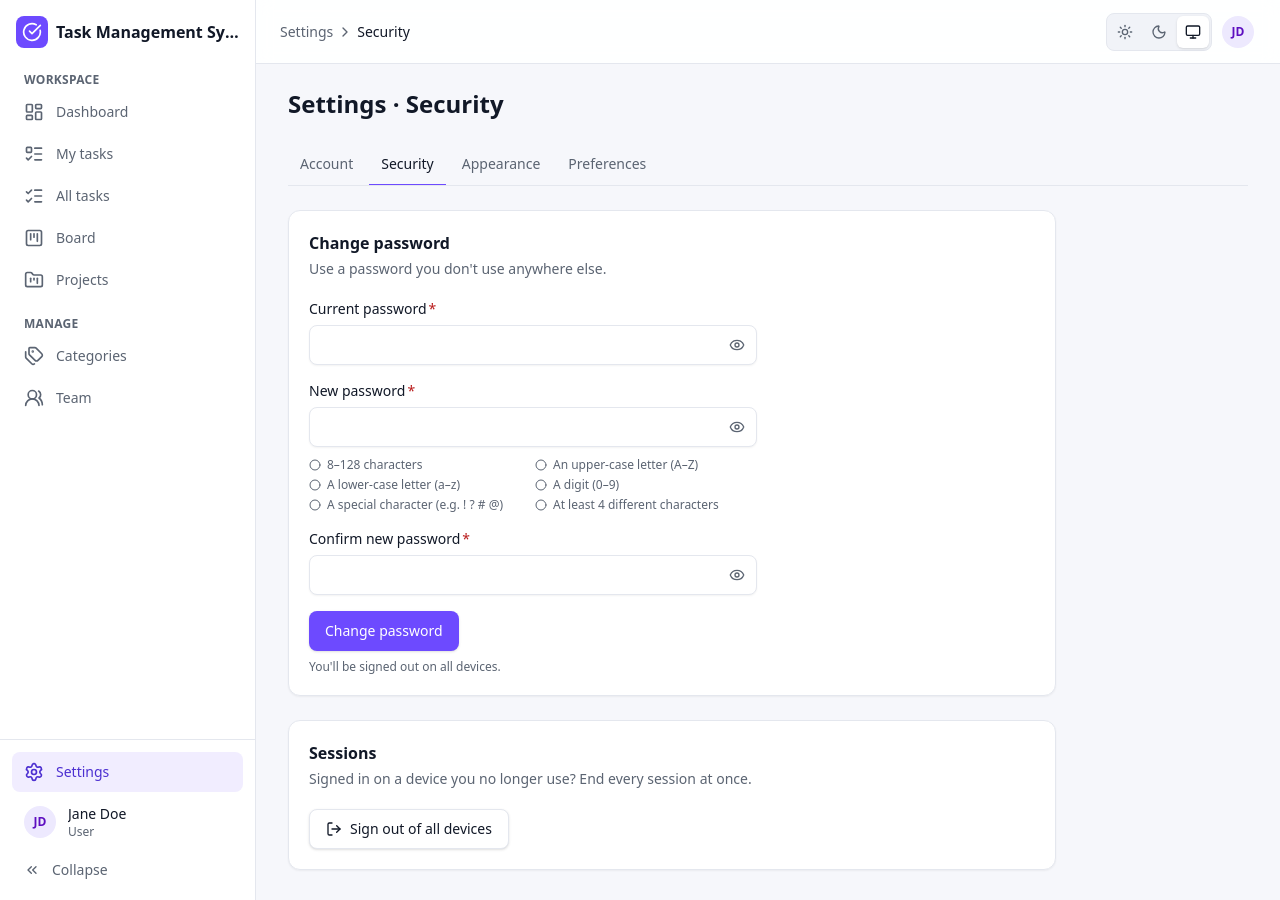
While signed in › sends the user to sign in, back to the same page afterwards, when the session expires mid-use
The width and height of the screenshot is (1280, 900).
Step 1. Type "Old!Pass1" into the password field labelled "Current password" → (533, 345), box left=309, top=325, right=757, bottom=365
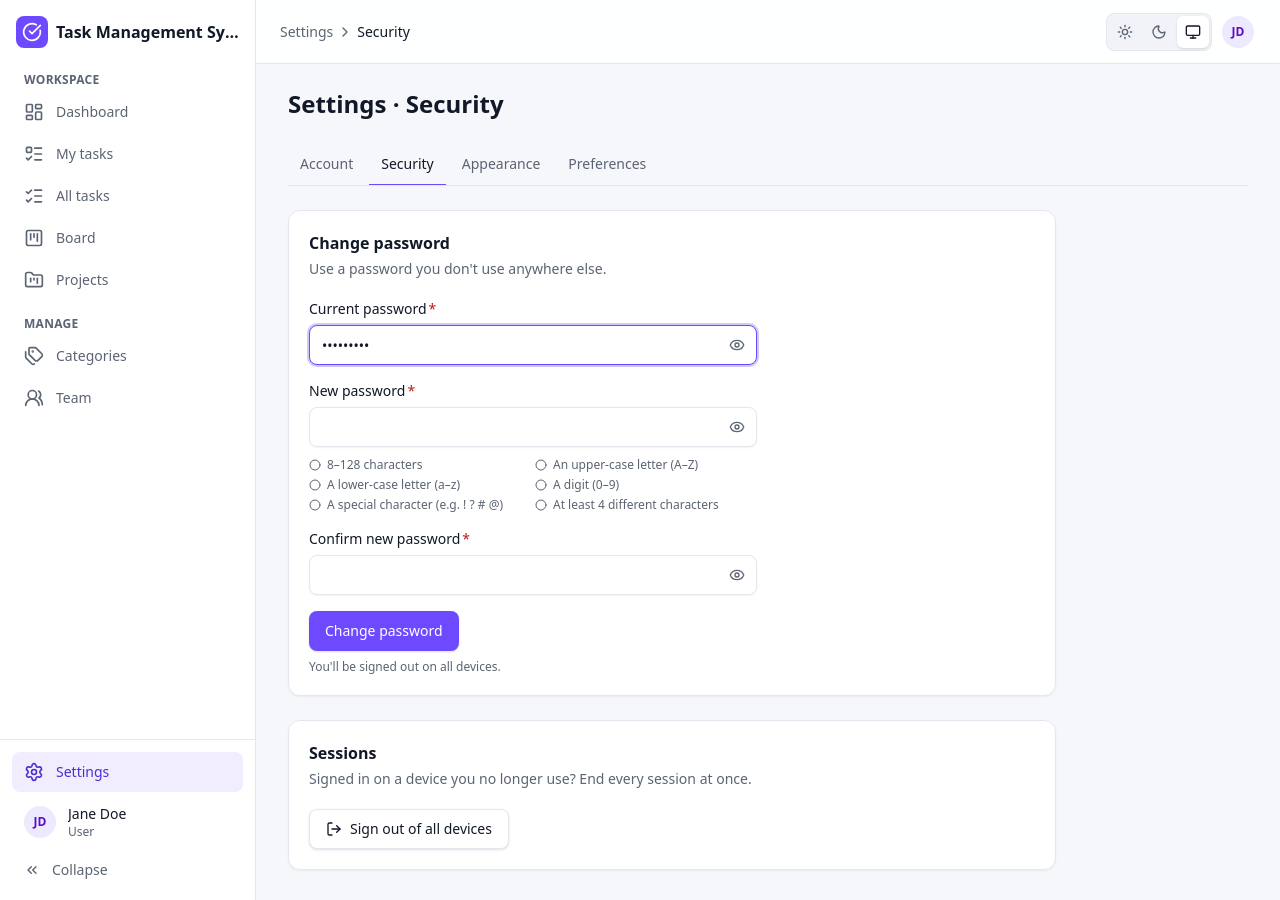
Step 2. Type "N3w!Password" into the password field labelled "New password" → (533, 427), box left=309, top=407, right=757, bottom=447
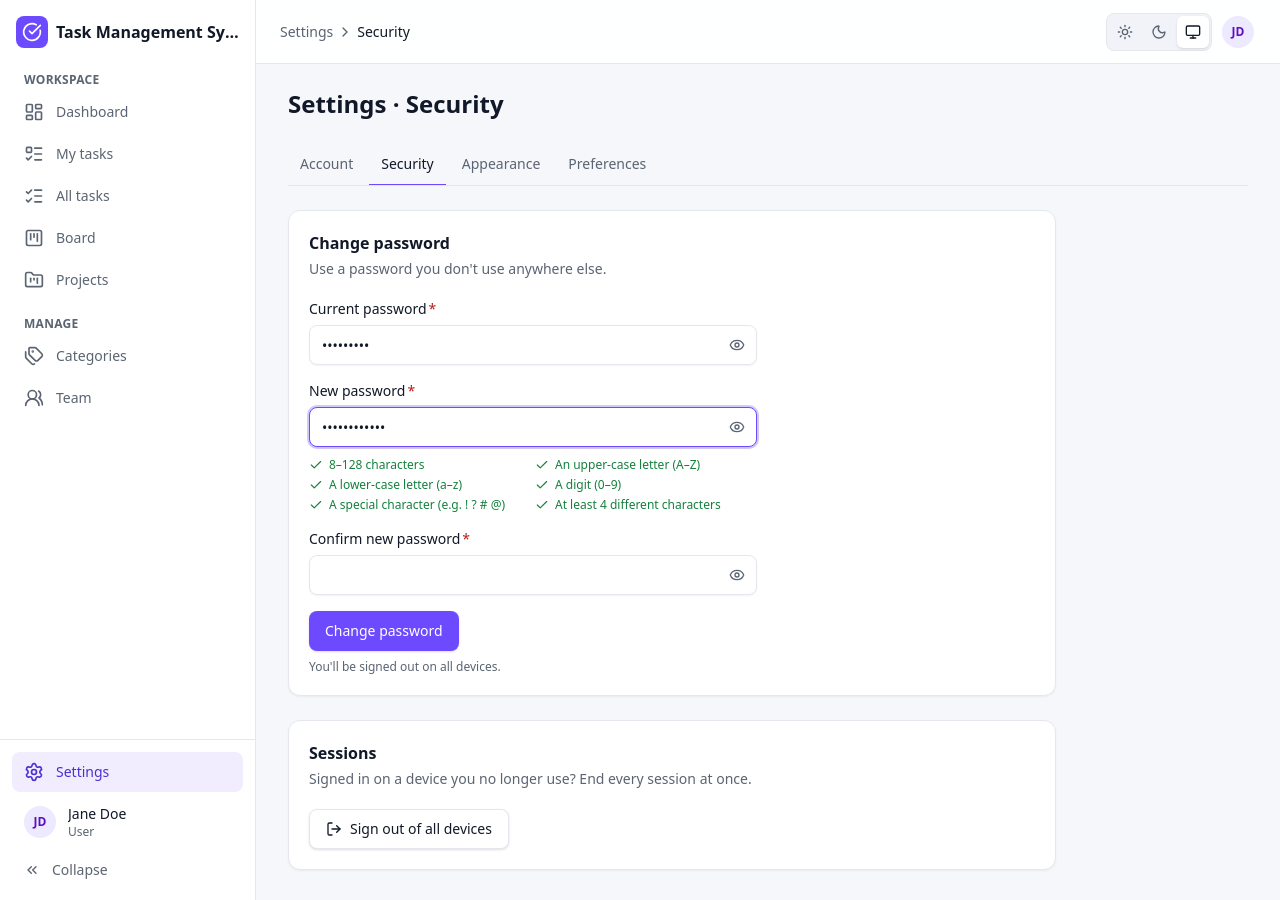
Step 3. Type "N3w!Password" into the password field labelled "Confirm new password" → (533, 575), box left=309, top=555, right=757, bottom=595
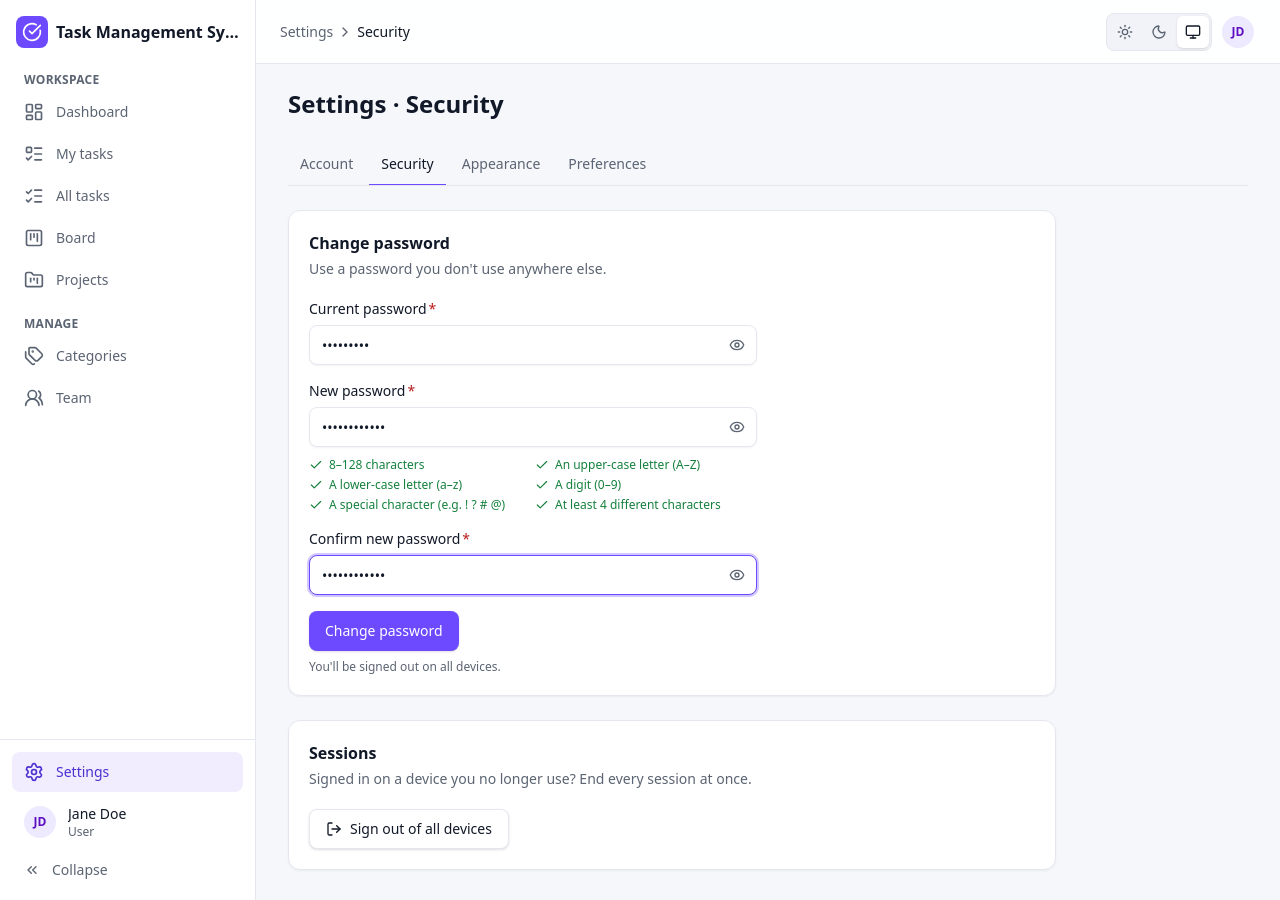
Step 4. Click the button "Change password" → (384, 631), box left=309, top=611, right=459, bottom=651
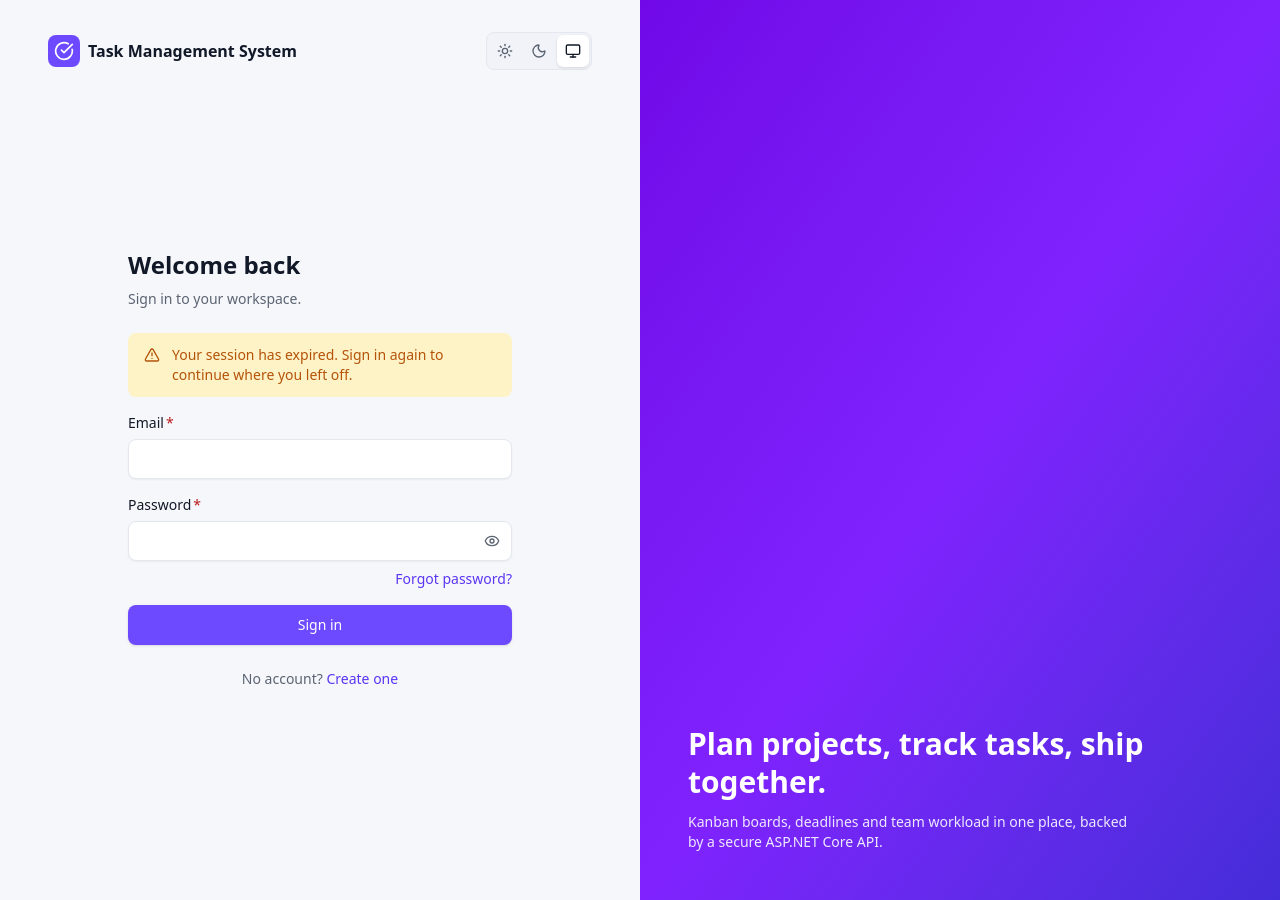
Check: the text "Your session has expired" is shown, box left=172, top=345, right=444, bottom=384
